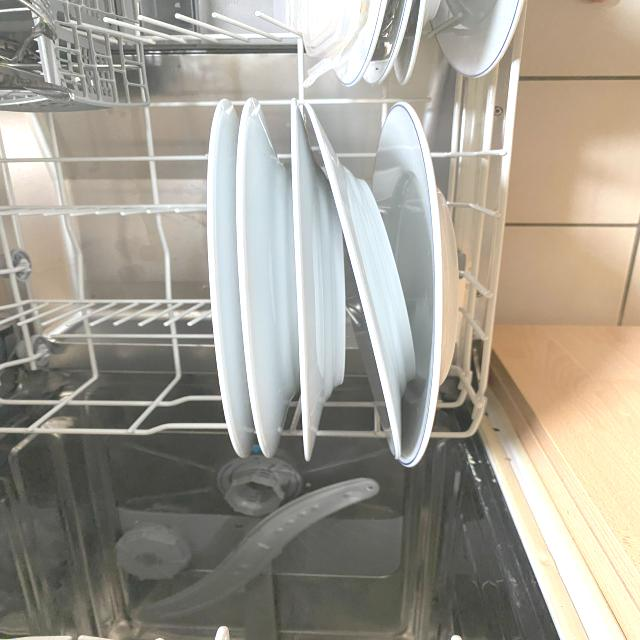empty_slot: (4, 101, 205, 426)
